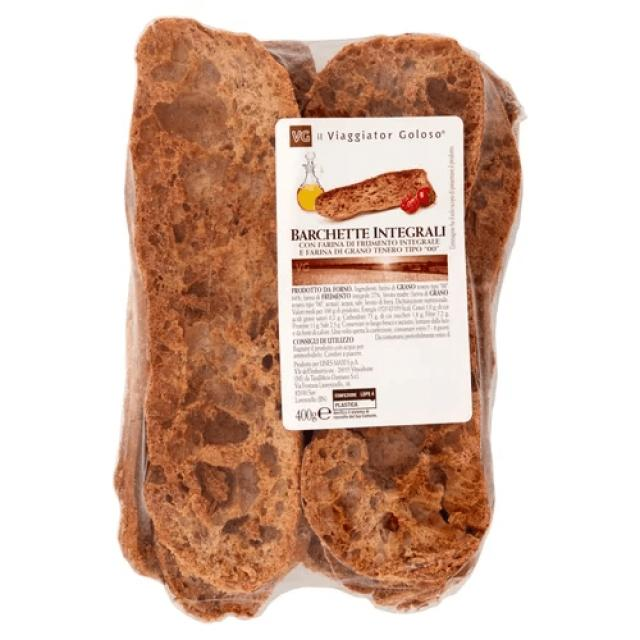Bread loaf: (113, 15, 527, 625)
